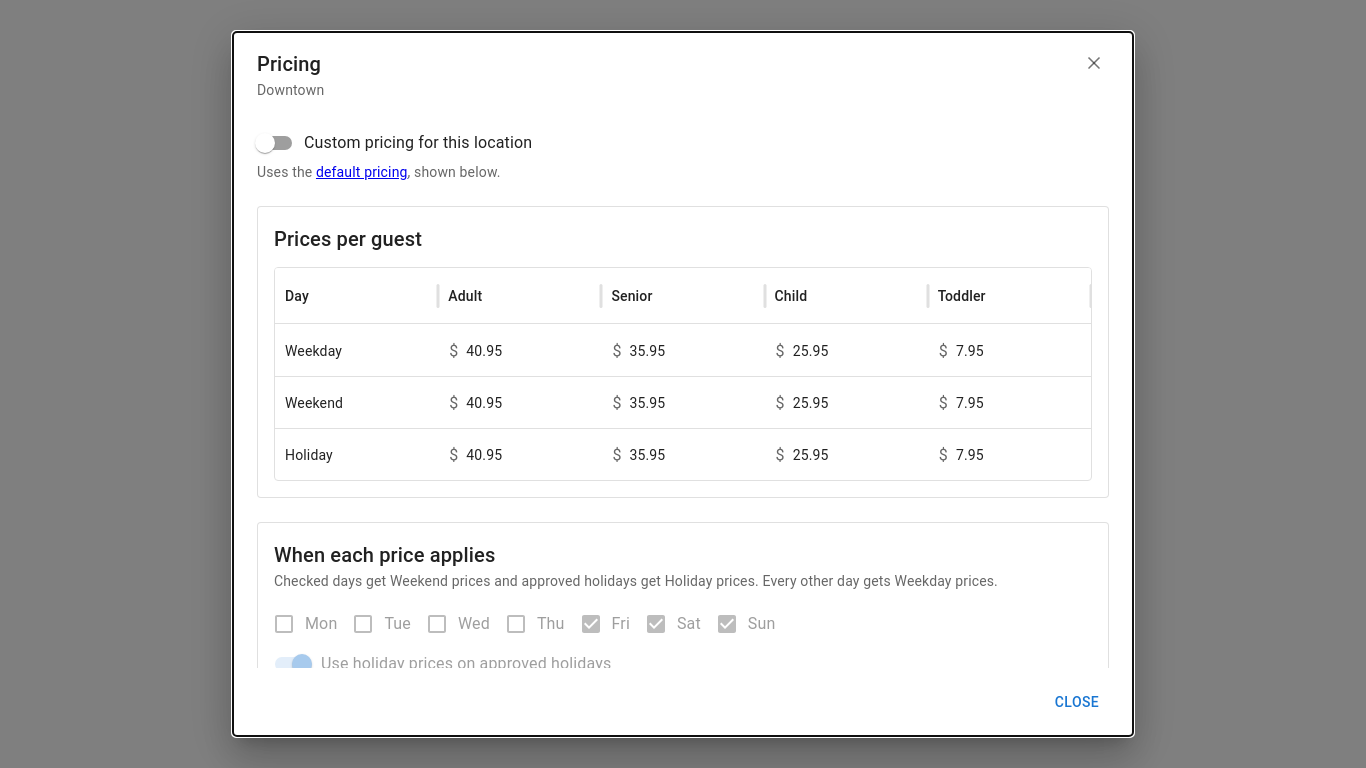
Test case: LocationPricingDialog › switching on and saving gives the location its own pricing
expect the number field named "Weekday Adult price" is shown: met, box top-left (466, 340), bottom-right (590, 361)
Click the switch labelled "Custom pricing for this location".
click(394, 143)  # box top-left (255, 133), bottom-right (532, 153)
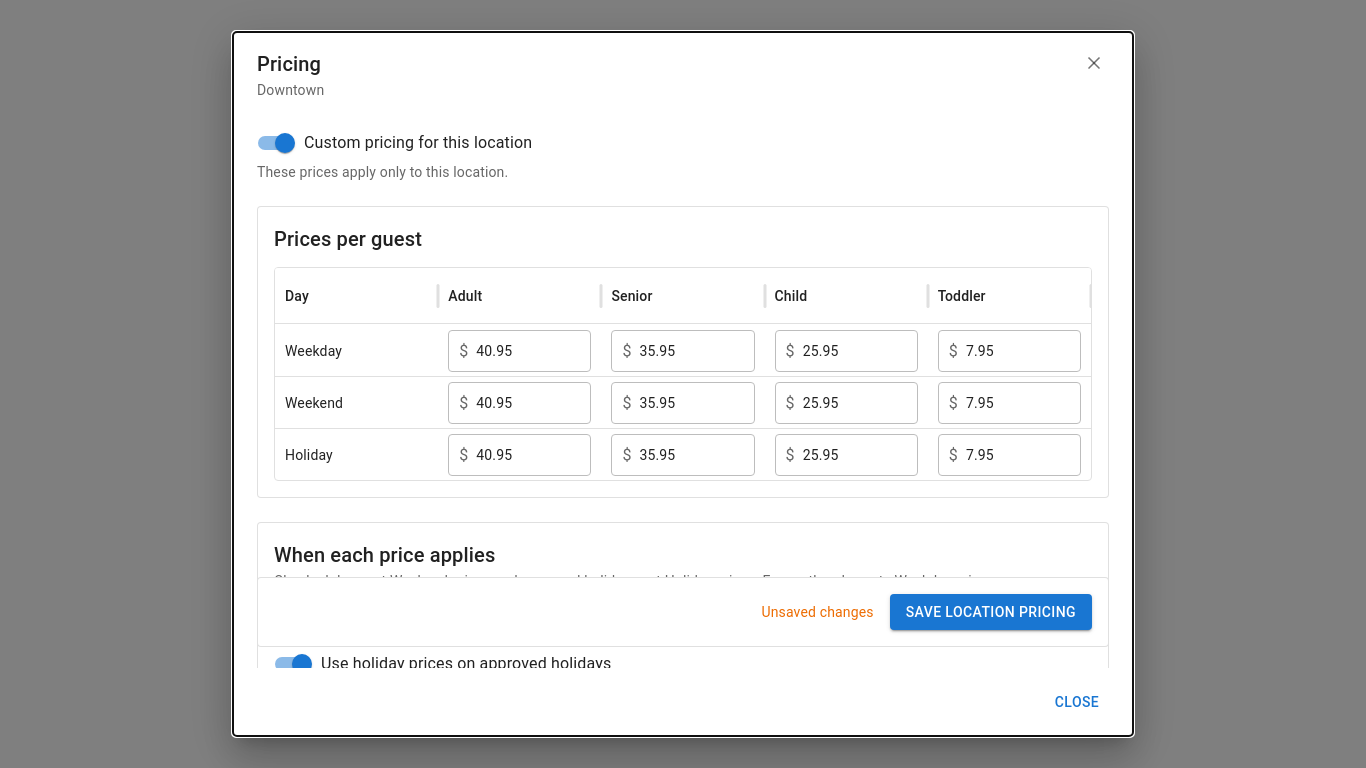
expect the button "Save location pricing" is enabled: met, box top-left (890, 594), bottom-right (1092, 630)
Replace the text in the number field named "Weekday Adult price" with "45" at (528, 351), box top-left (476, 340), bottom-right (580, 361)
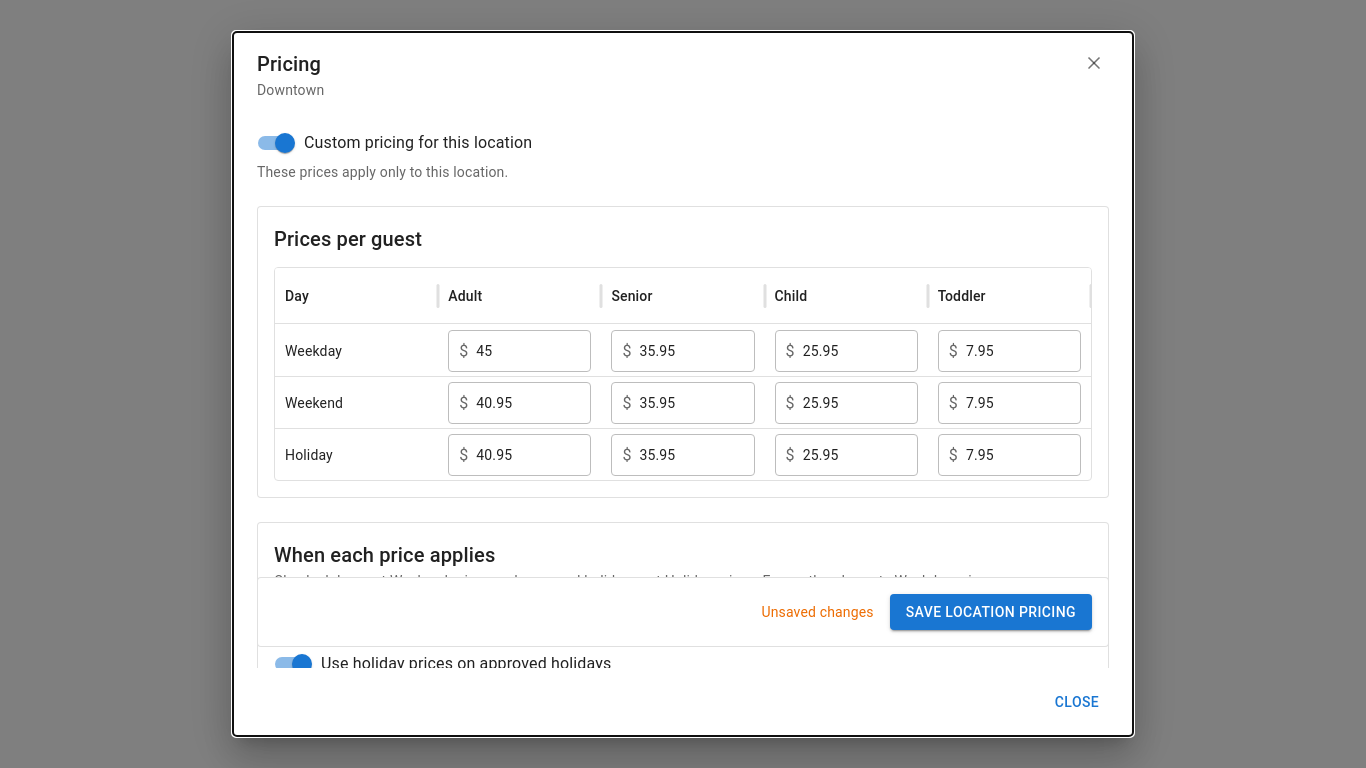
Click the button "Save location pricing".
click(991, 612)  # box top-left (890, 594), bottom-right (1092, 630)
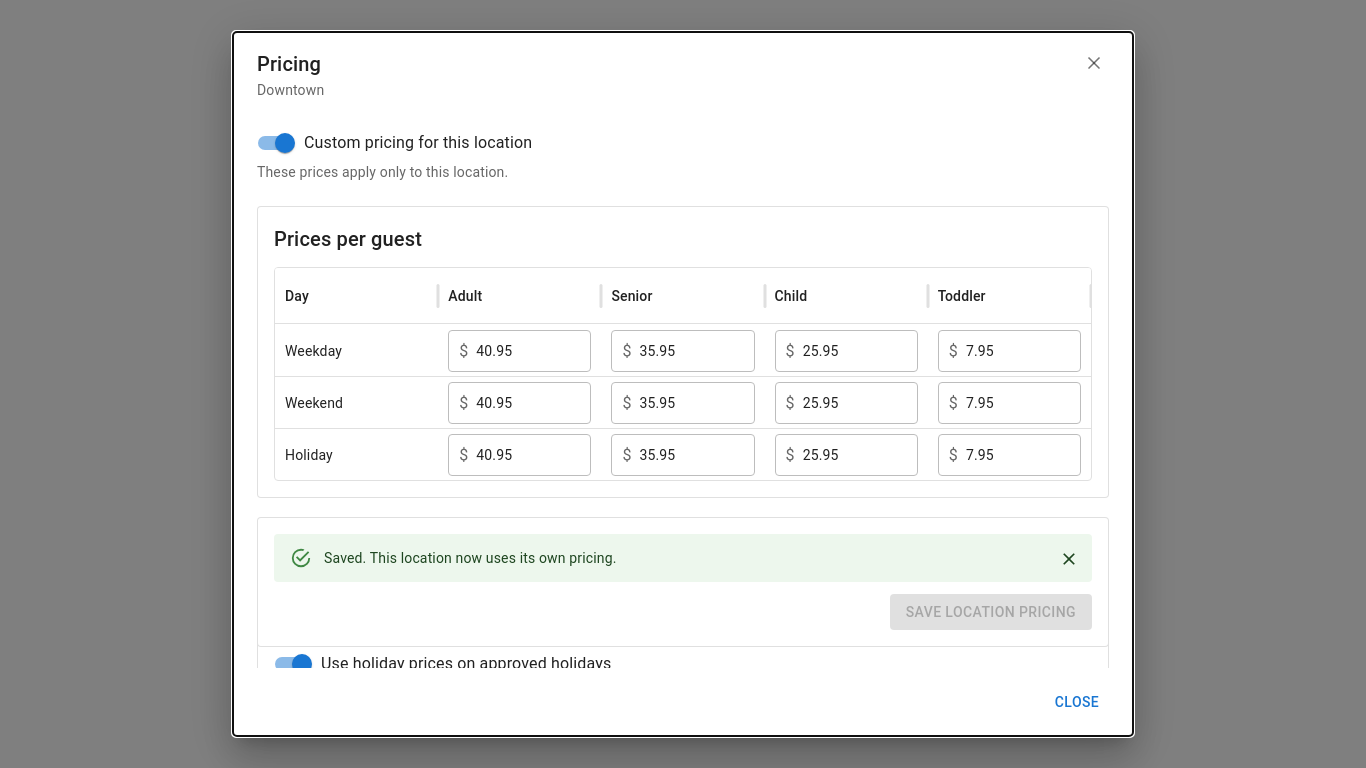
expect the text "Saved. This location now uses its own pricing." is shown: met, box top-left (324, 550), bottom-right (616, 566)
